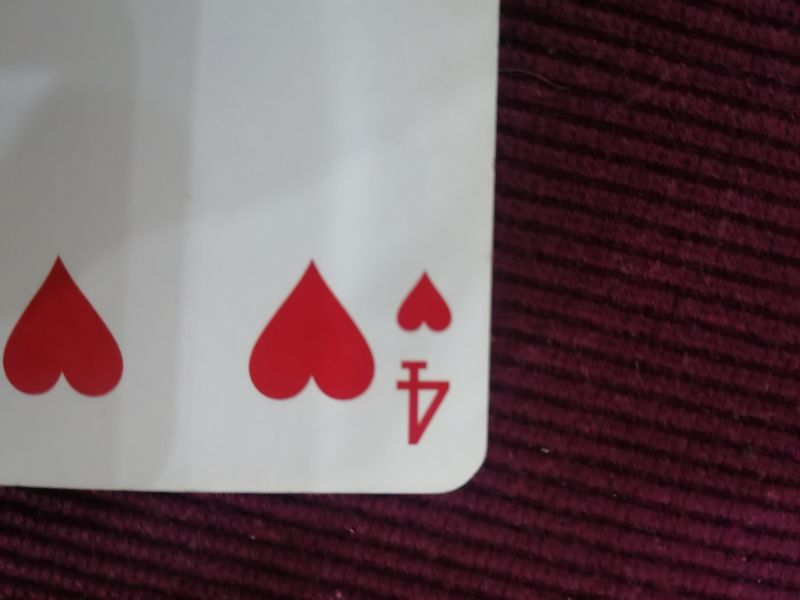4h: (384, 264, 458, 448)
